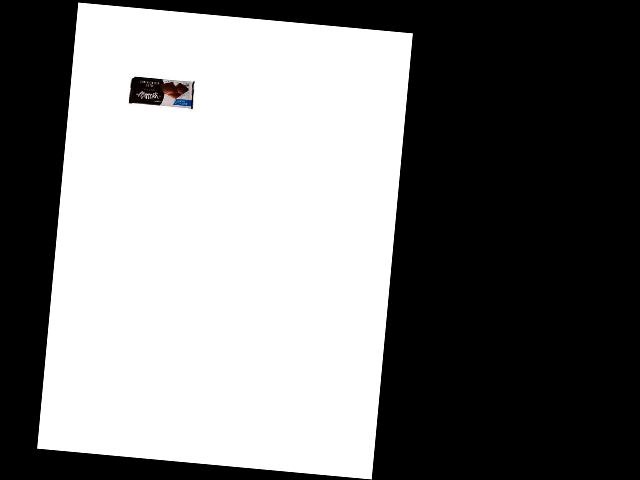chocolate: (129, 74, 195, 110)
